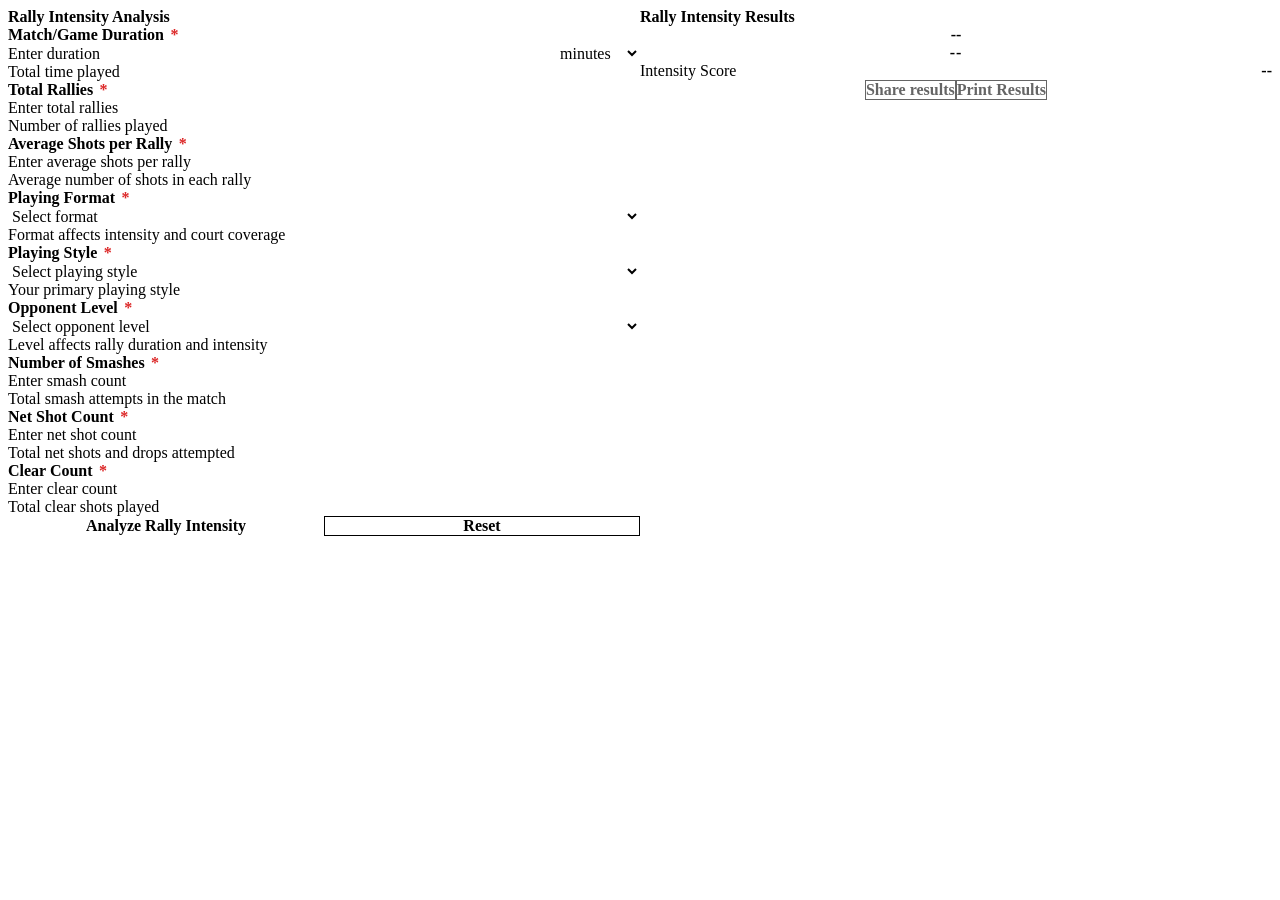
it: BadmintonRallyIntensityCalculator › validates with the source messages before calculating
Click the button "Analyze Rally Intensity".
click(166, 526)  # box [8,516,324,536]
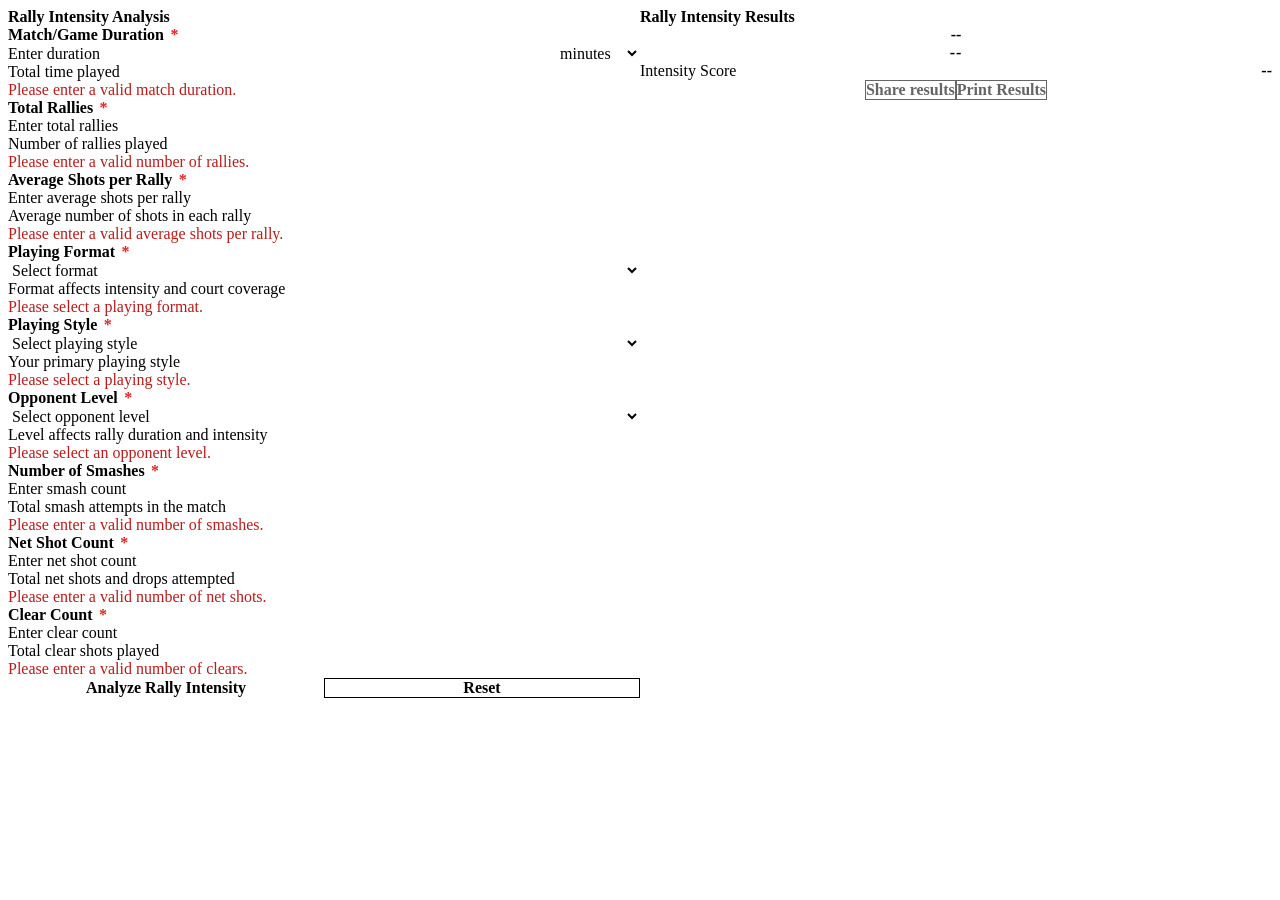
Now the text "Please enter a valid match duration." is shown, box [8,81,236,98]
Now the text "Please enter a valid number of rallies." is shown, box [8,153,249,170]
Now the text "Please enter a valid average shots per rally." is shown, box [8,225,283,242]
